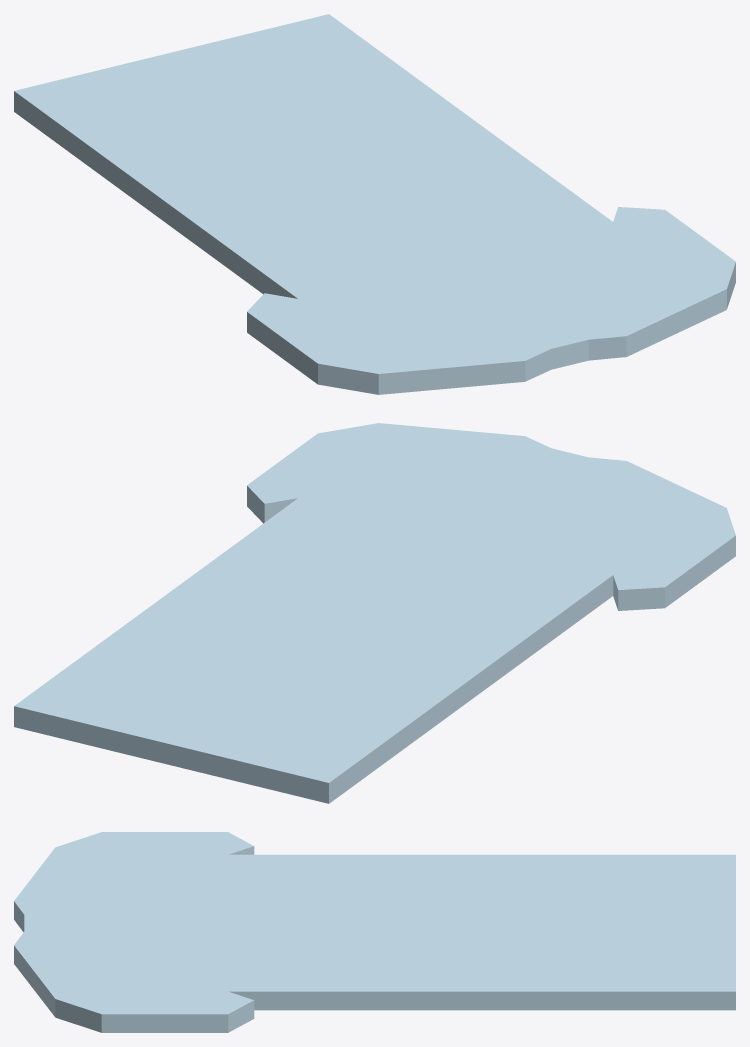
The model's file is shirt-OxBFSyO-.gltf.
3 views of the same model, one above another, from view 1: azimuth 30°, elevation 25°; view 2: azimuth 150°, elevation 25°; view 3: azimuth 270°, elevation 25° (orthographic). The views are drawn at different scales.
Visible parts, largest first — view 1: Part 1; view 2: Part 1; view 3: Part 1.
Part boxes in pixels (<box>): Part 1: <box>14,14,735,394</box>; Part 1: <box>14,423,735,803</box>; Part 1: <box>14,832,735,1032</box>.
Size of the model in its own units: 0.2094 by 0.01 by 0.3508.
